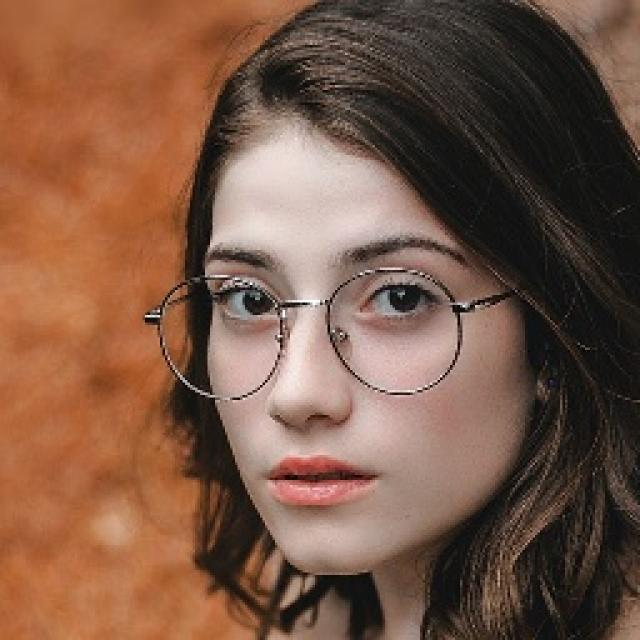glasses: (142, 252, 519, 406)
